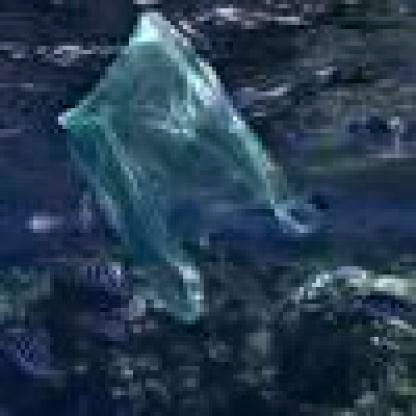pbag: (54, 13, 325, 328)
